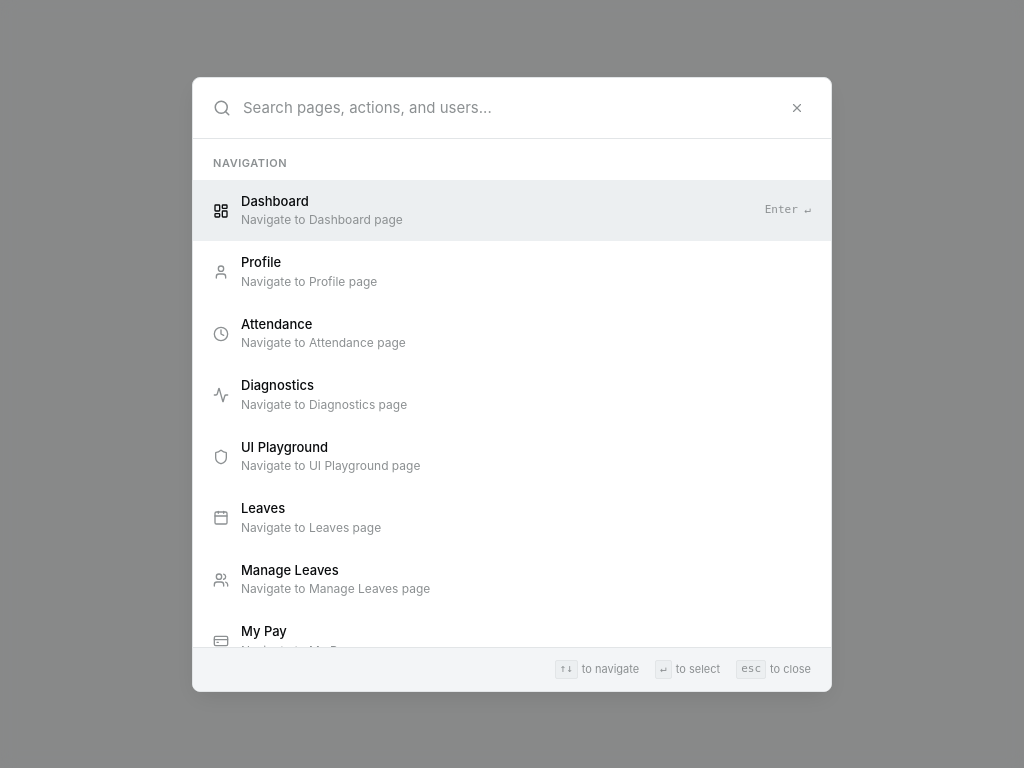
Test: SearchPalette Component › should filter items statically as query is typed
Type "Light" into the field with placeholder "Search pages, actions, and users..." at (507,108), box [243, 97, 771, 120]
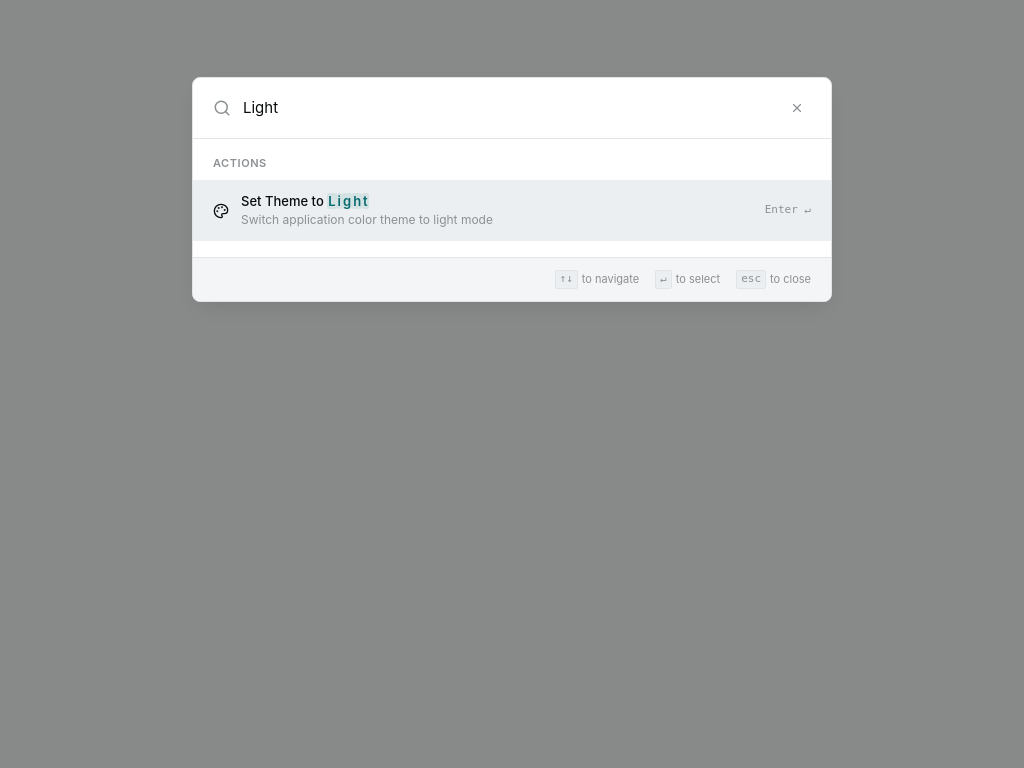
Expected: the element showing "Set Theme to Light" is shown, [241, 193, 369, 209]
Expected: the text "Dashboard" is gone
